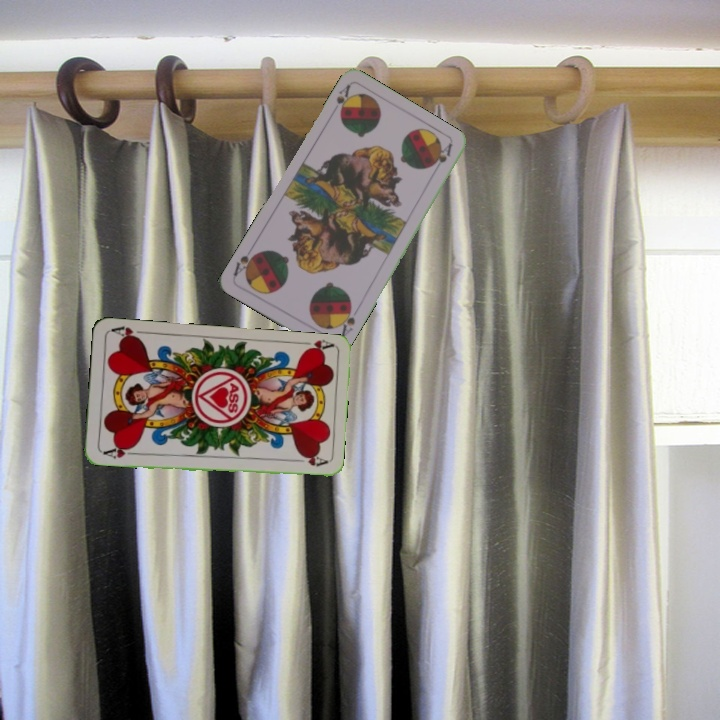HA: (295, 336, 336, 356), (99, 442, 139, 461)
SA: (334, 303, 360, 341), (332, 80, 356, 119)
